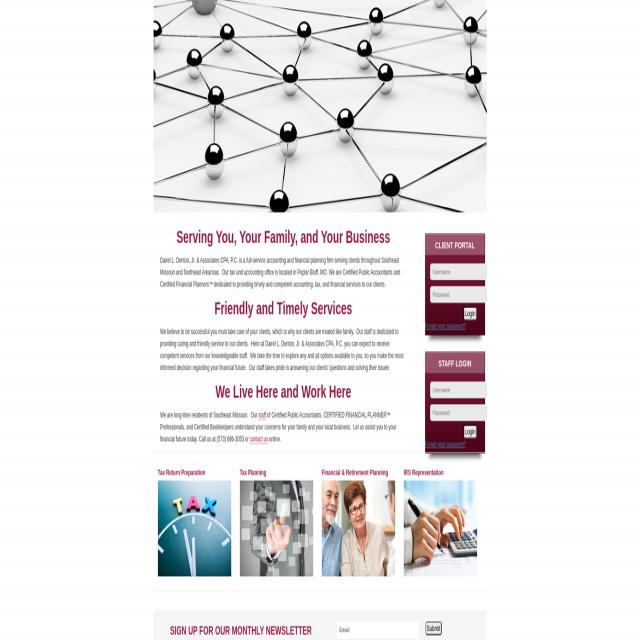button: (154, 0, 486, 211), (239, 480, 313, 577), (321, 480, 395, 577), (403, 480, 477, 577), (158, 480, 231, 577), (463, 306, 477, 320), (425, 623, 442, 634), (463, 425, 477, 438)
field: (337, 623, 419, 640), (430, 286, 486, 303), (430, 404, 486, 421), (430, 264, 486, 280), (430, 382, 486, 398)
